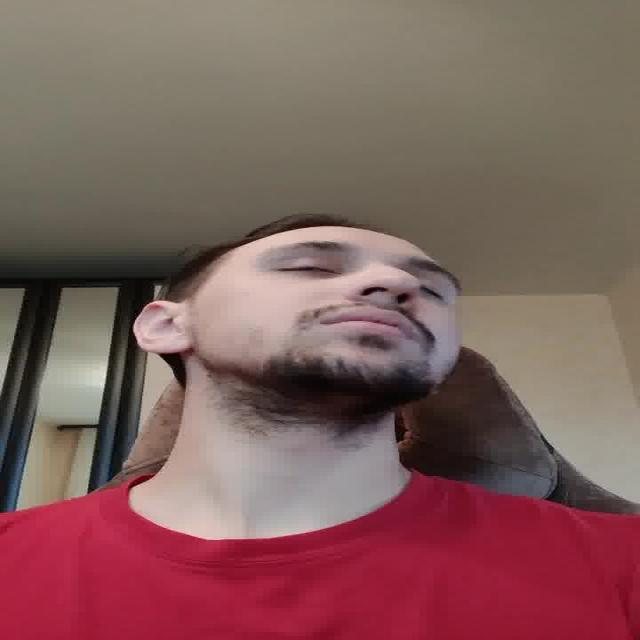earlobe: (131, 301, 192, 354)
